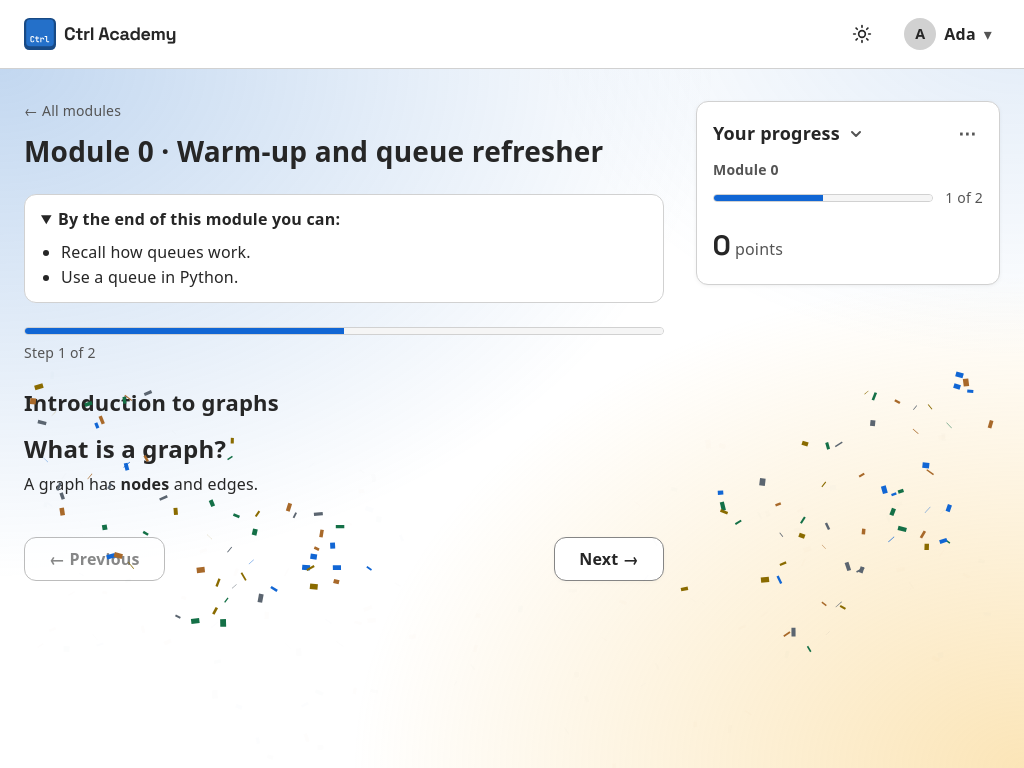
Test case: ModulePage — navigation and position saving › fetches the rewards after a Next only when that save completes the module
Click the button "Next →".
click(609, 559)  # box [554, 537, 664, 581]
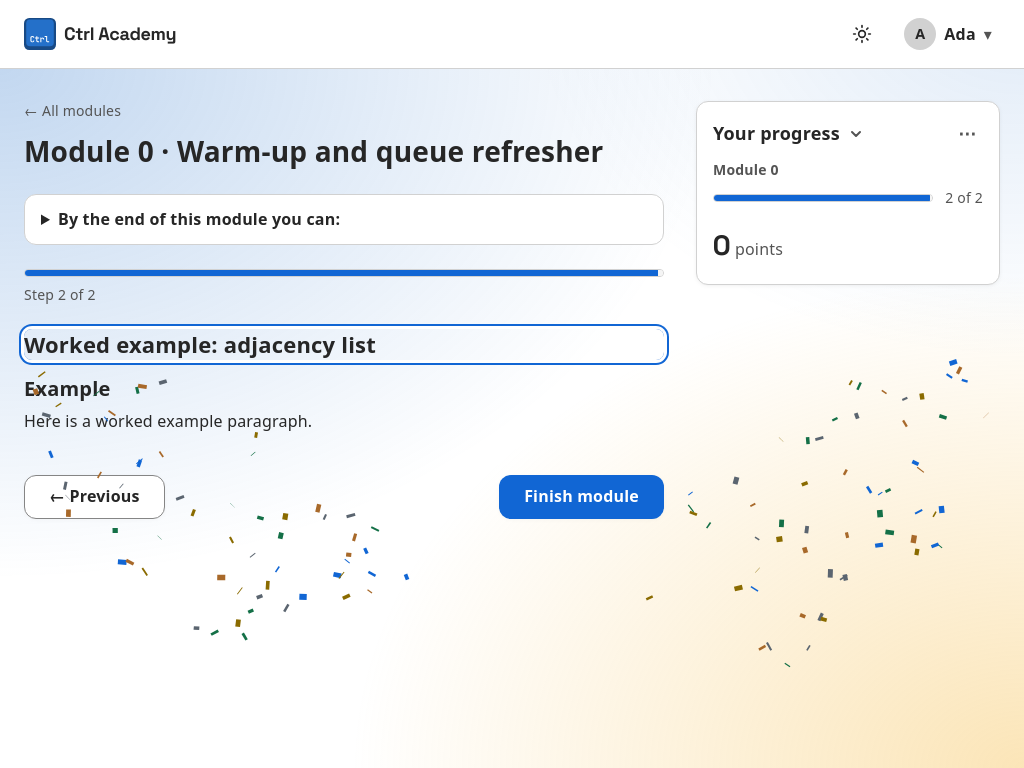
Result: the button "Finish module" is shown at [499, 474, 664, 518]
